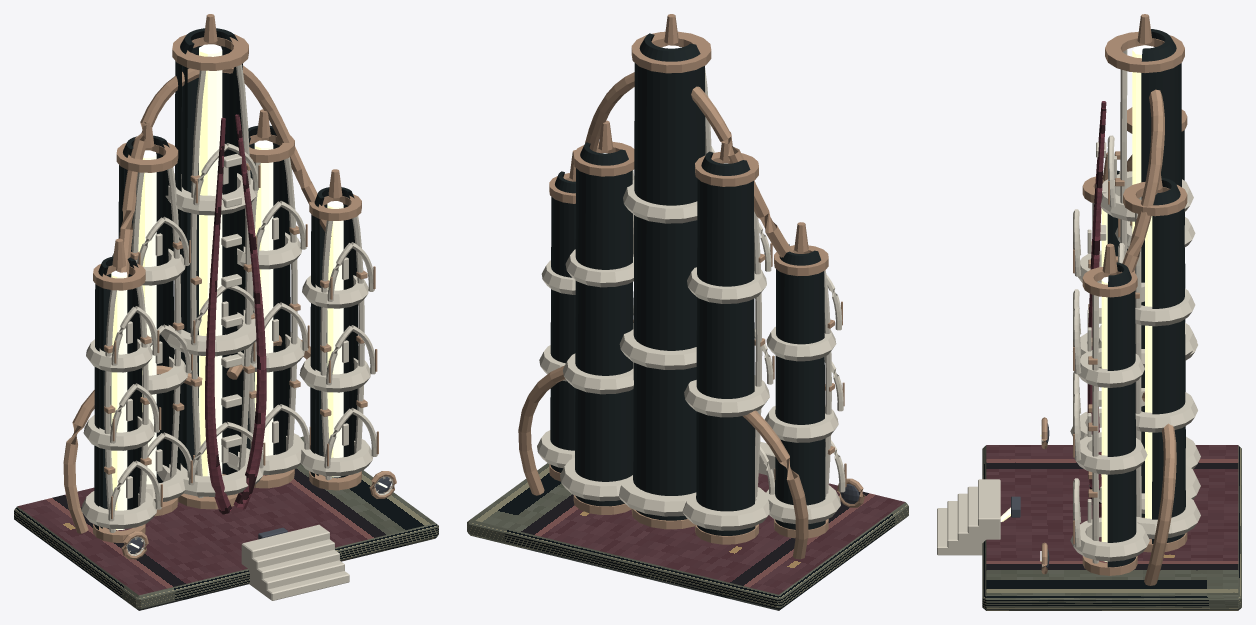
Rendered from foundry_tower_cluster.glb.
3 views of the same model, side by side, from view 1: azimuth 30°, elevation 25°; view 2: azimuth 150°, elevation 25°; view 3: azimuth 270°, elevation 25° (orthographic). The views are drawn at different scales.
Parts seen in each view (by area): view 1: foundry_tower_cluster_petrol, foundry_tower_cluster_warm, foundry_tower_cluster_worn, foundry_tower_cluster_sick, foundry_tower_cluster_bruised; view 2: foundry_tower_cluster_petrol, foundry_tower_cluster_warm, foundry_tower_cluster_worn; view 3: foundry_tower_cluster_petrol, foundry_tower_cluster_warm, foundry_tower_cluster_worn, foundry_tower_cluster_sick, foundry_tower_cluster_bruised.
Boxes of the visible parts, box(x1,y1,x2,y2) form: foundry_tower_cluster_petrol: box(14, 28, 438, 610); foundry_tower_cluster_warm: box(81, 64, 393, 600); foundry_tower_cluster_worn: box(63, 14, 396, 559); foundry_tower_cluster_sick: box(111, 44, 387, 548); foundry_tower_cluster_bruised: box(205, 114, 266, 514); foundry_tower_cluster_petrol: box(467, 33, 908, 610); foundry_tower_cluster_warm: box(537, 47, 860, 530); foundry_tower_cluster_worn: box(518, 14, 865, 559); foundry_tower_cluster_petrol: box(982, 29, 1241, 610); foundry_tower_cluster_warm: box(937, 49, 1200, 567); foundry_tower_cluster_worn: box(1041, 14, 1187, 585); foundry_tower_cluster_sick: box(1000, 45, 1154, 562); foundry_tower_cluster_bruised: box(1087, 101, 1106, 516).
Size of the model in its own units: 5.3 by 8.41 by 4.46.
6 materials, 2 textured.
